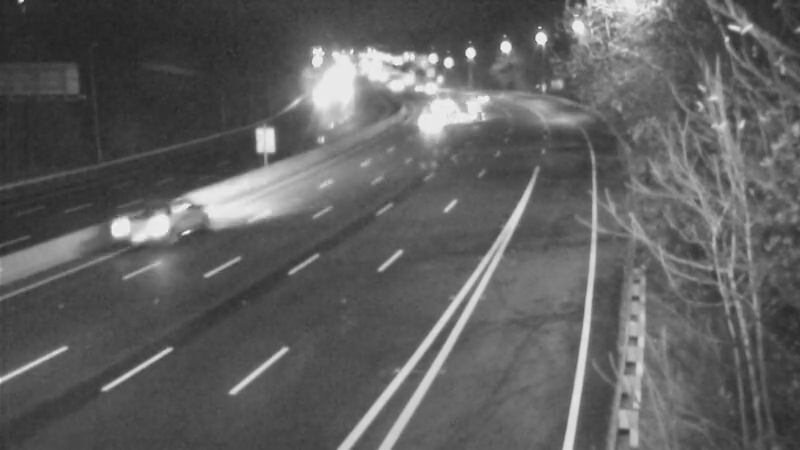vehicle: (102, 183, 182, 263), (461, 73, 511, 123), (448, 77, 498, 127), (418, 82, 468, 132), (438, 90, 488, 140), (404, 93, 454, 143), (298, 69, 348, 119)
